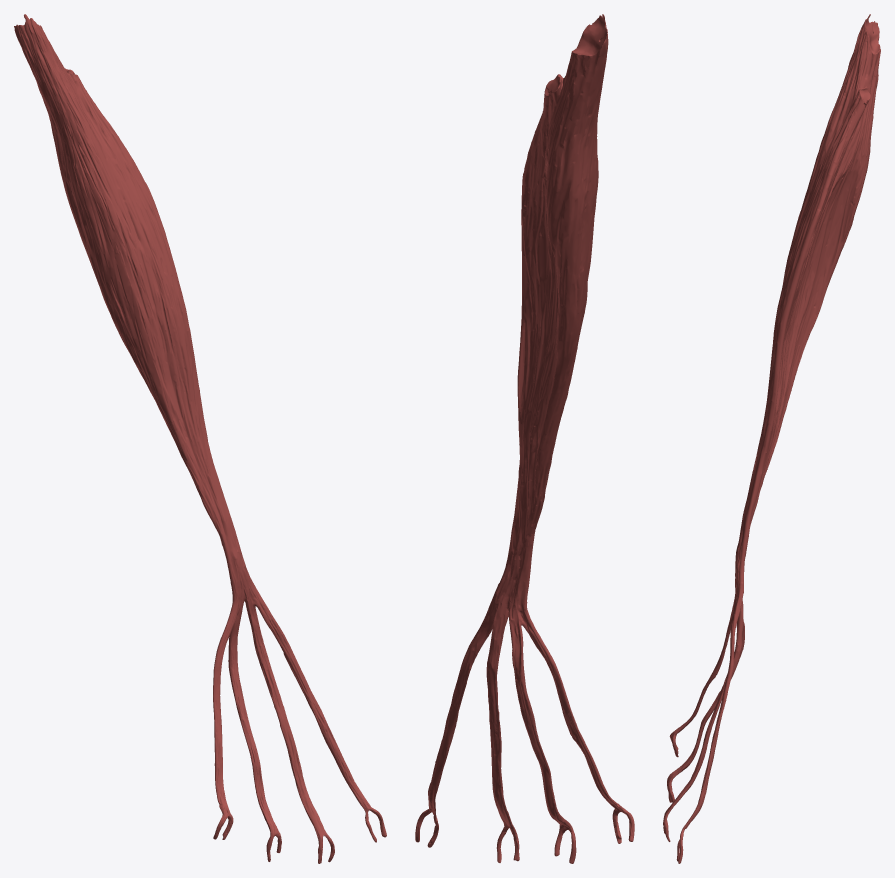
Rendered from FMA38639.glb.
3 views of the same model, side by side, from view 1: azimuth 30°, elevation 25°; view 2: azimuth 150°, elevation 25°; view 3: azimuth 270°, elevation 25° (orthographic). The views are drawn at different scales.
Visible parts, largest first — view 1: FMA38639; view 2: FMA38639; view 3: FMA38639.
Part boxes in pixels (bbox=[...]): FMA38639: bbox=[14, 14, 386, 863]; FMA38639: bbox=[415, 14, 634, 863]; FMA38639: bbox=[663, 14, 880, 863].
Size of the model in its own units: 0.1278 by 0.3772 by 0.1004.
